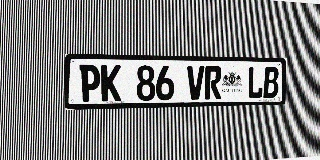6: (156, 65, 174, 100)
8: (137, 65, 155, 101)
B: (263, 67, 279, 98)
K: (101, 65, 121, 101)
L: (247, 66, 263, 99)
P: (79, 65, 100, 102)
R: (205, 66, 222, 99)
V: (187, 66, 204, 100)
